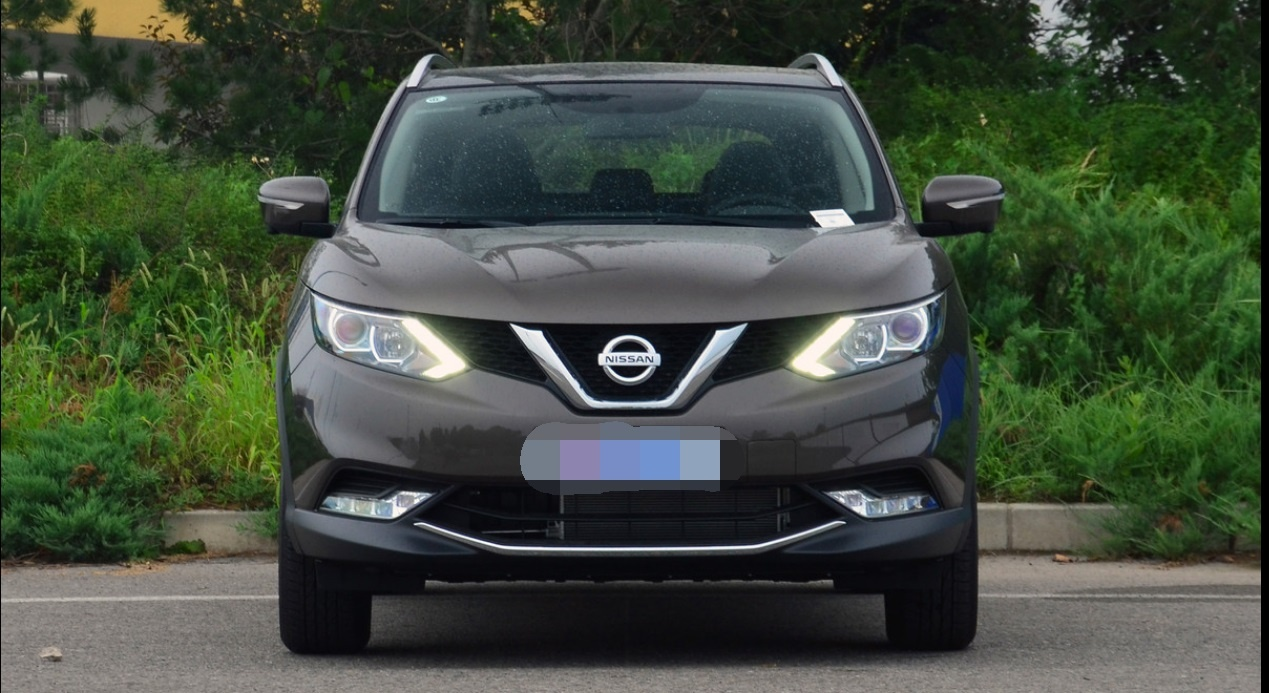SUV: (247, 31, 993, 647)
